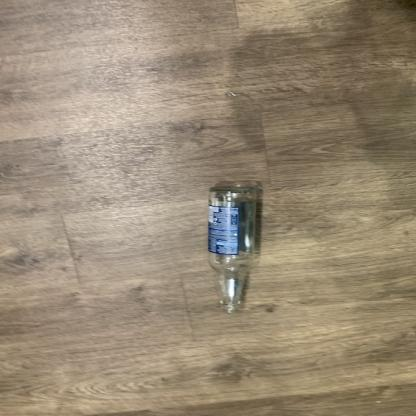trash: (206, 186, 260, 313)
